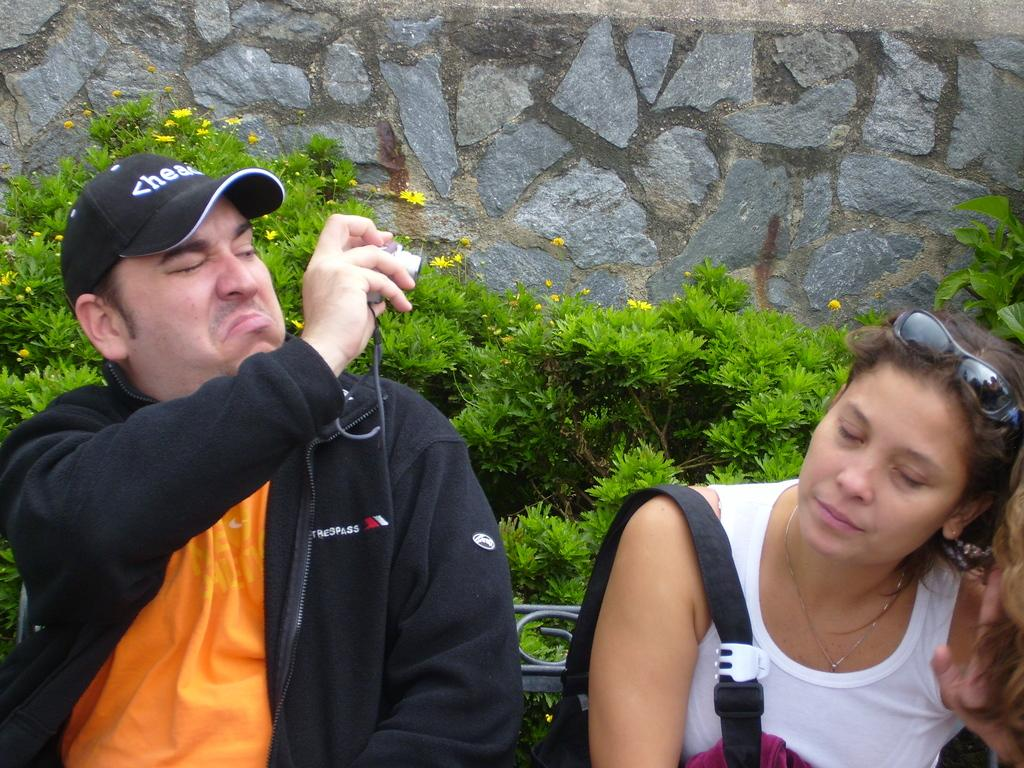Hat: (57, 152, 285, 313)
